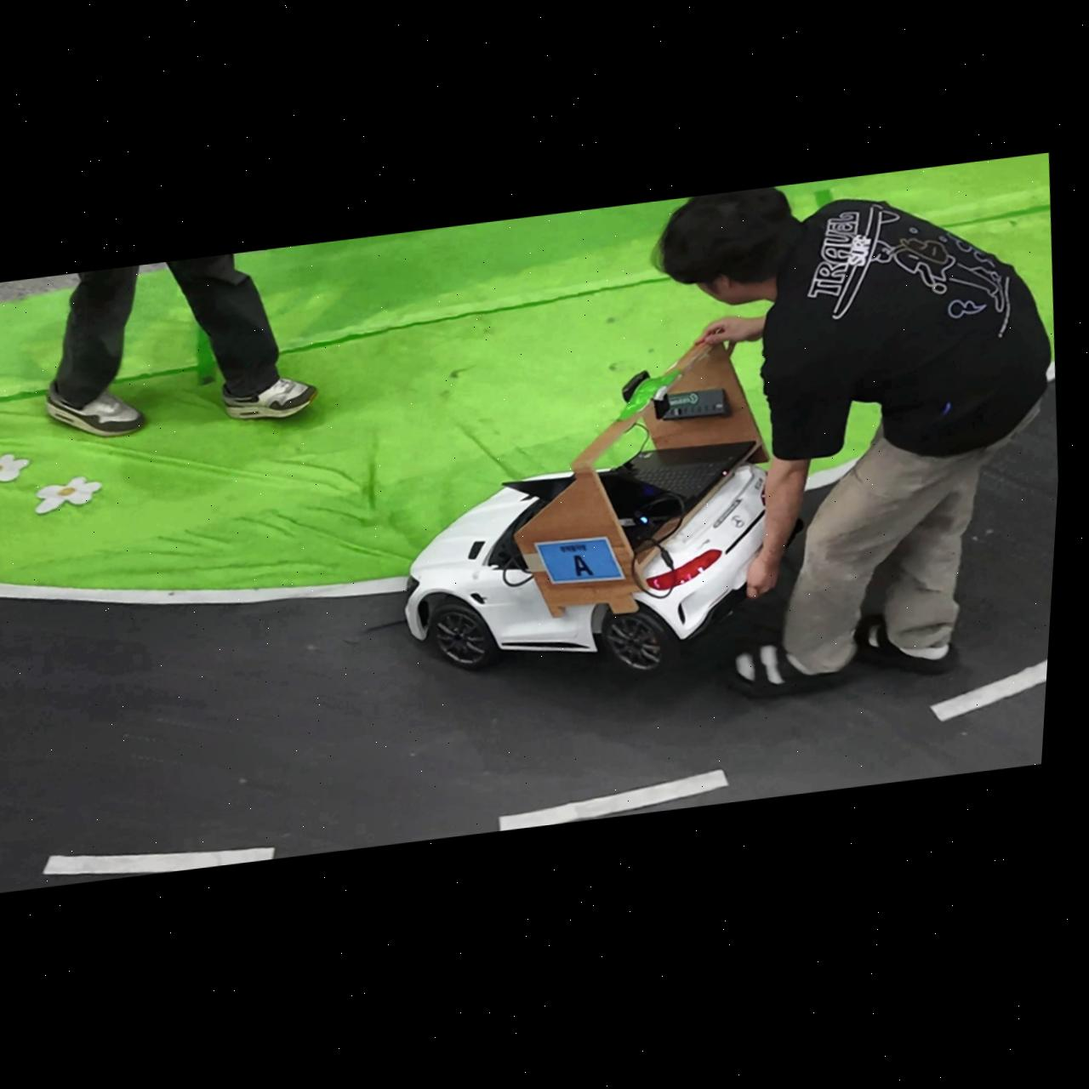broken_line: (499, 769, 729, 830), (931, 661, 1047, 722), (42, 847, 275, 874)
